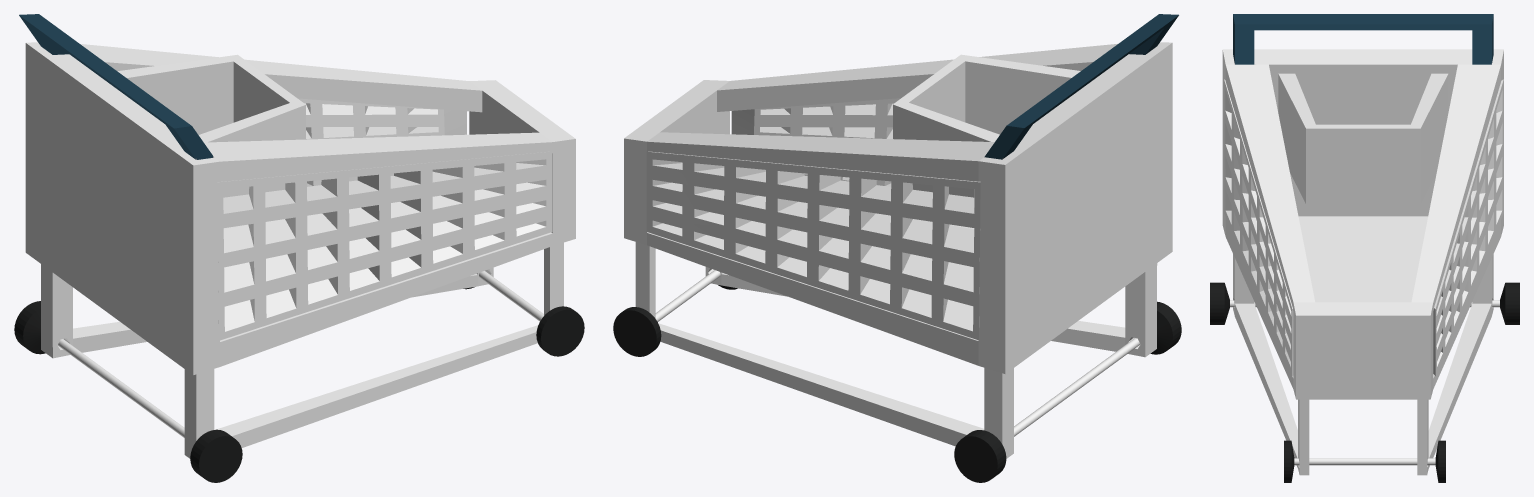
File: cart.fbx
3 renders of one model, left to right at view 1: azimuth 30°, elevation 25°; view 2: azimuth 150°, elevation 25°; view 3: azimuth 270°, elevation 25°, orthographic. The views are drawn at different scales.
Visible parts, largest first — view 1: Rear_Wheels; view 2: Rear_Wheels; view 3: Rear_Wheels.
Part boxes in pixels (box(x1,y1,x2,y2)): Rear_Wheels: box(14, 14, 584, 482); Rear_Wheels: box(613, 14, 1181, 482); Rear_Wheels: box(1210, 14, 1519, 482).
Size of the model in its own units: 233 by 178 by 169.
1 material, 1 textured.
